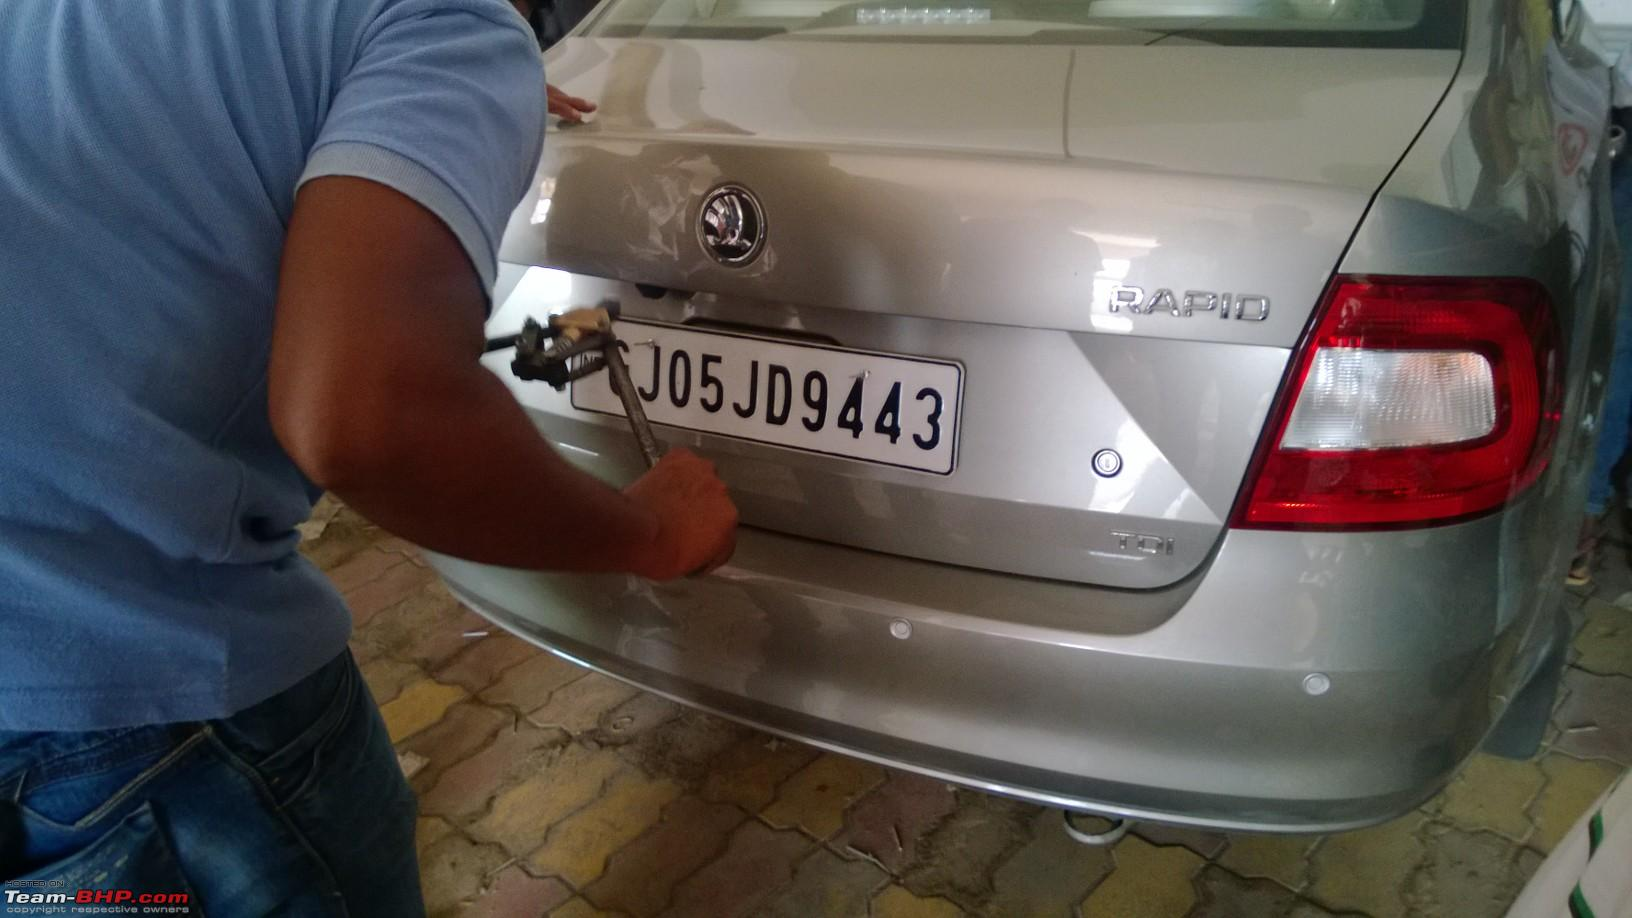number_plate: (566, 304, 967, 477)
